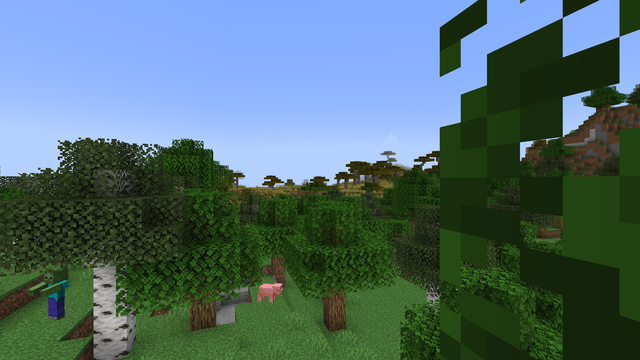cochons: (260, 281, 276, 303)
zombies: (41, 271, 69, 322)
